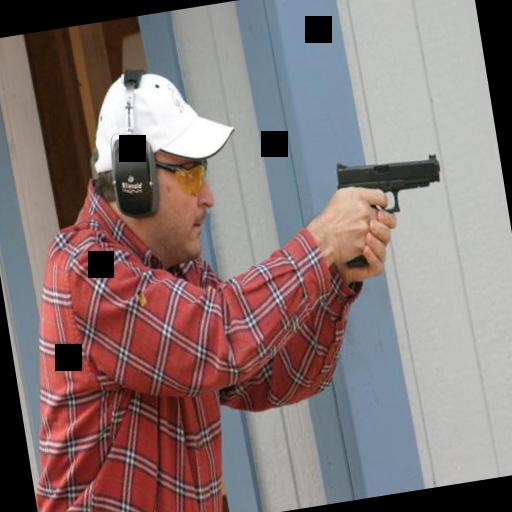Handgun: (327, 144, 452, 270)
